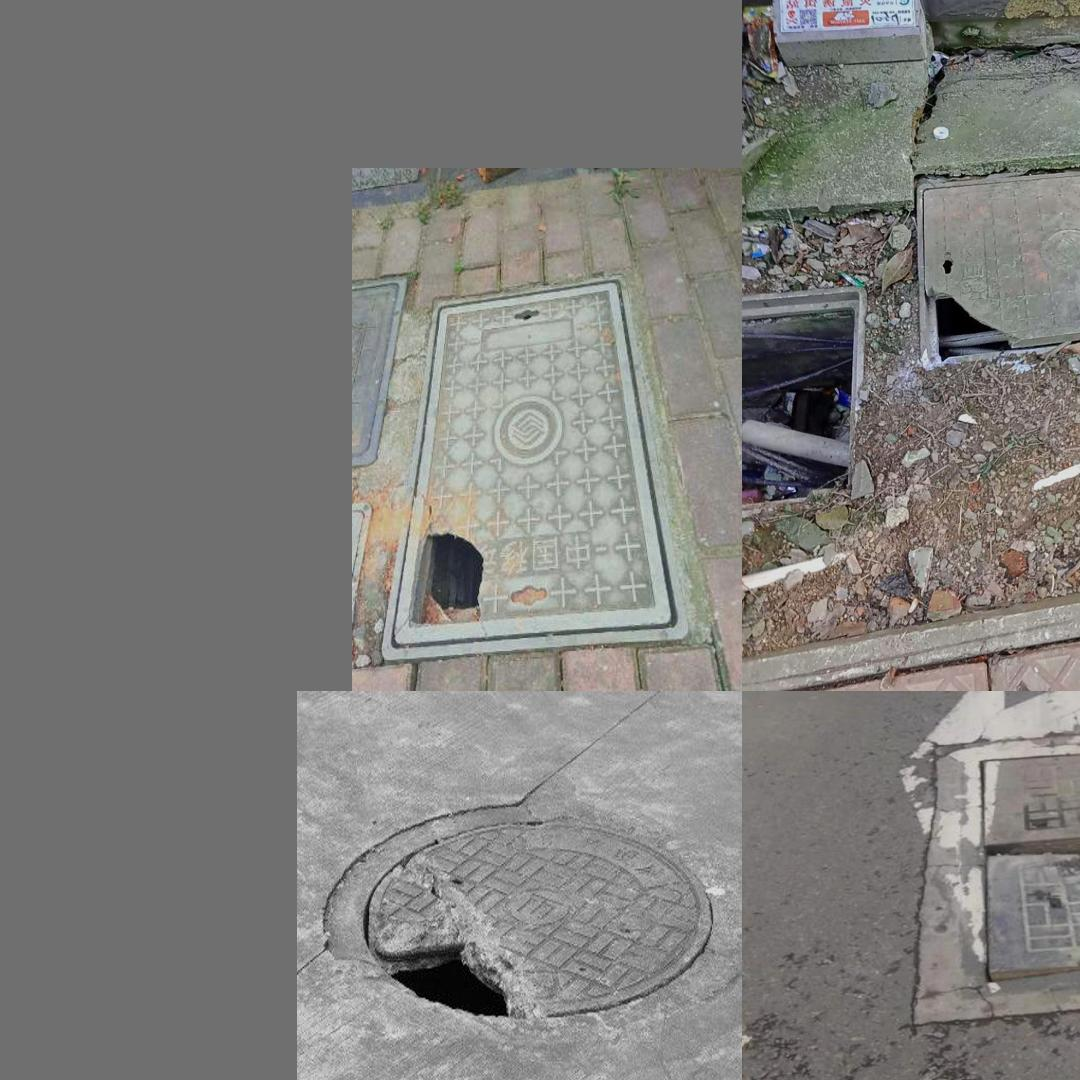broke: (380, 272, 691, 661), (373, 801, 714, 1015), (923, 725, 1080, 1018), (913, 161, 1080, 371)
